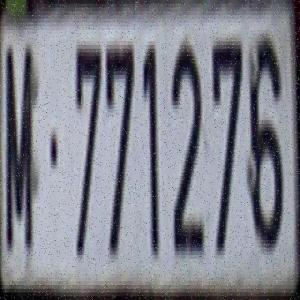Plate: (1, 9, 294, 290)
